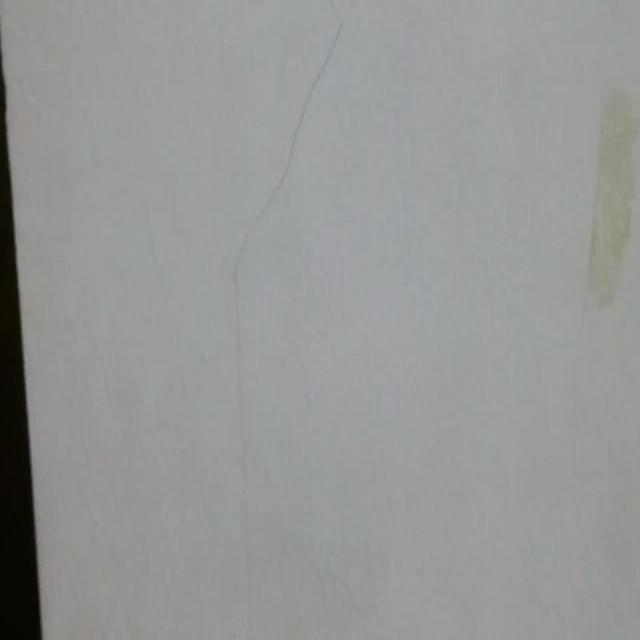Crack: (219, 0, 356, 275), (221, 279, 264, 520)
